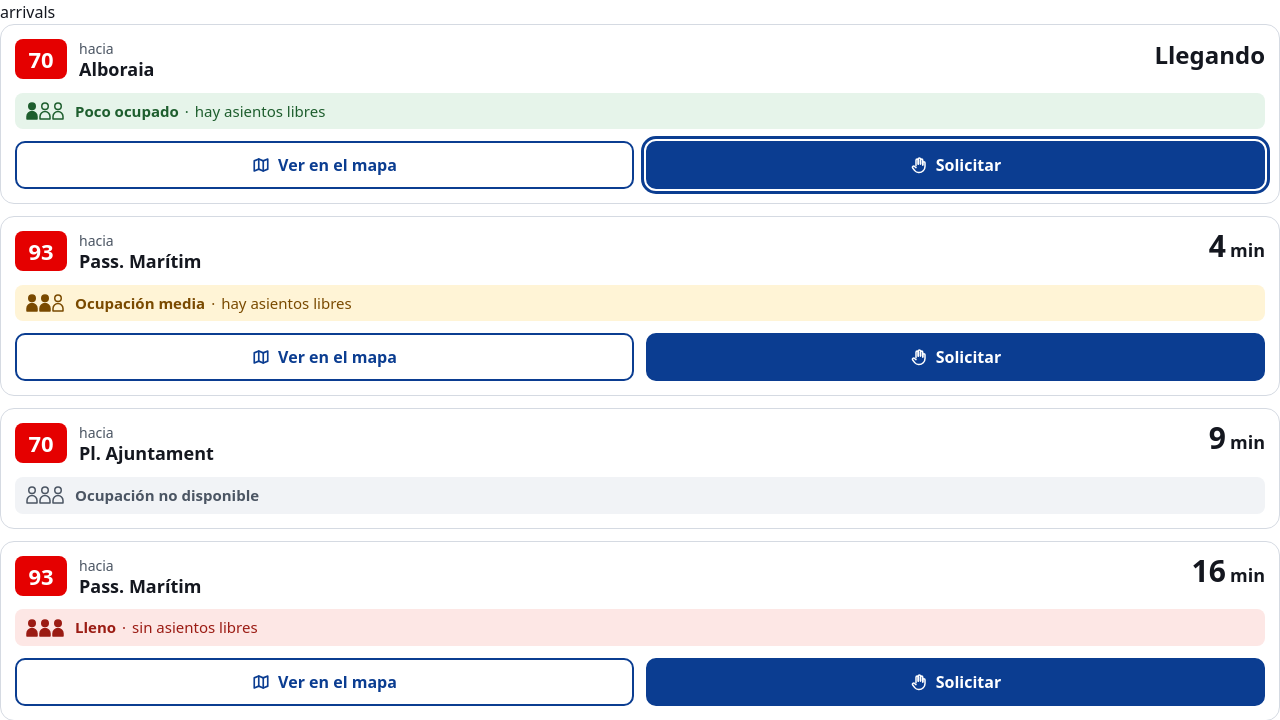
Test case: RequestDialog › [passenger_alert_ui.AC-04] says when the bus is arriving
Click the button with aria-label "Solicitar parada a la línea 70 hacia Alboraia".
click(956, 165)  # box [646,141,1265,189]
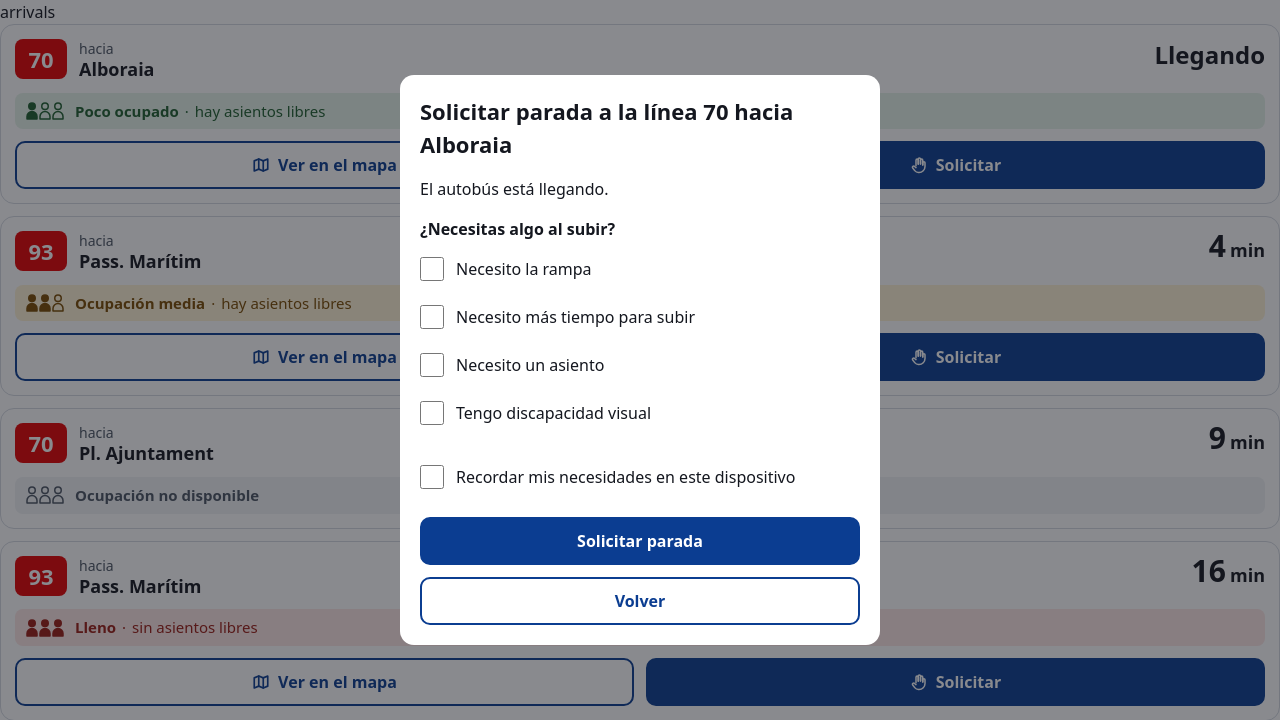
Result: the dialog shows "El autobús está llegando." at [420,178,608,200]
